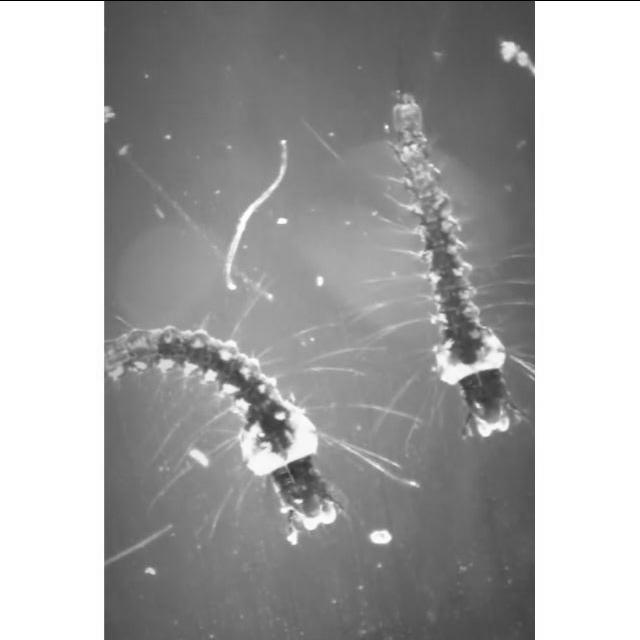larvas: (103, 330, 347, 528), (392, 89, 515, 434)
